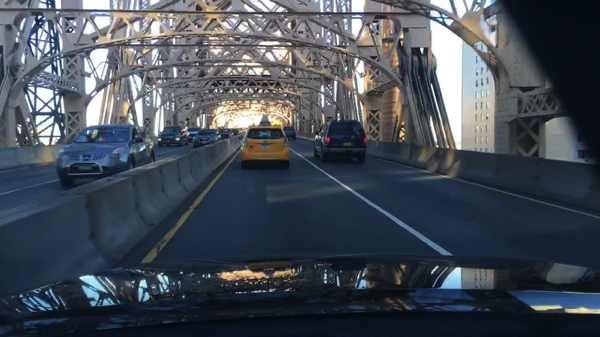car: (57, 125, 157, 186), (312, 121, 368, 162), (240, 125, 289, 168), (157, 126, 190, 147), (193, 129, 220, 148), (188, 126, 202, 142), (283, 126, 296, 141), (220, 128, 230, 139), (232, 128, 240, 135)
